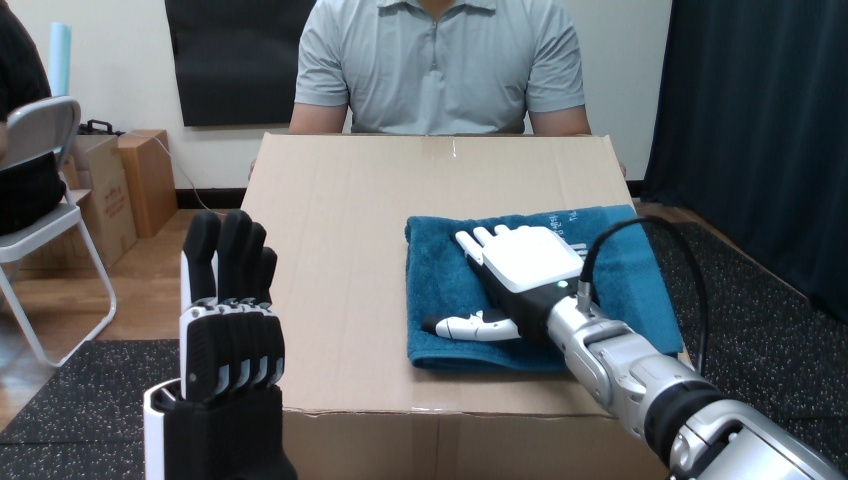left robot hand: (674, 221, 847, 475), (144, 210, 295, 479)
